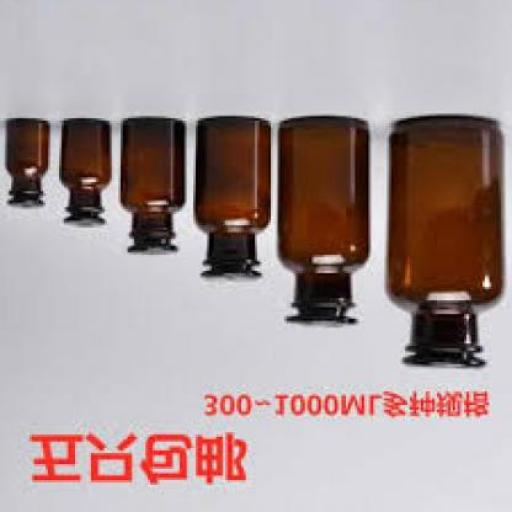glass: (384, 114, 502, 366), (272, 116, 368, 328), (194, 116, 268, 282), (120, 118, 184, 257), (60, 118, 109, 230), (2, 118, 50, 212)
